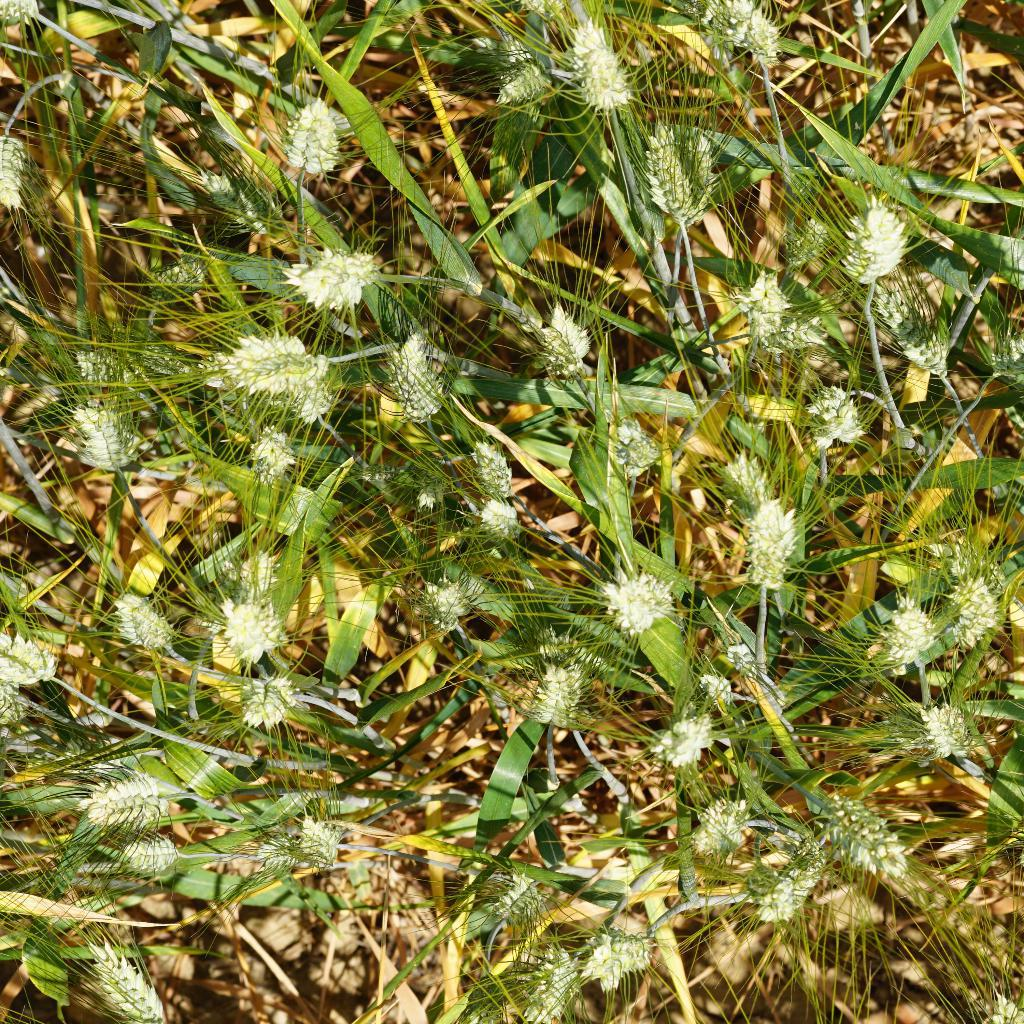0-0: (76, 926, 174, 1024), (806, 793, 912, 883), (867, 279, 953, 387), (200, 544, 289, 647), (187, 162, 291, 238), (570, 915, 664, 998), (209, 334, 348, 390), (913, 530, 1018, 602), (832, 196, 912, 288), (695, 0, 789, 78), (522, 620, 584, 738), (280, 243, 385, 308), (571, 11, 634, 118), (385, 323, 448, 425), (67, 768, 174, 828), (726, 263, 796, 354), (638, 116, 694, 229), (873, 590, 942, 680), (592, 565, 678, 637), (519, 937, 590, 1024), (64, 400, 138, 483), (796, 376, 870, 458), (528, 294, 592, 386), (515, 661, 590, 739), (680, 794, 762, 865), (742, 495, 802, 591), (713, 446, 776, 534), (640, 709, 718, 780), (279, 92, 344, 177), (670, 124, 719, 236), (214, 597, 285, 668), (481, 871, 562, 932), (113, 588, 181, 658), (405, 571, 477, 635), (124, 334, 210, 387), (915, 699, 982, 765), (467, 31, 556, 80), (145, 243, 214, 306), (0, 629, 71, 690), (777, 833, 829, 912), (276, 372, 340, 434), (747, 308, 835, 353), (243, 420, 299, 490), (606, 411, 661, 481), (944, 577, 996, 650), (494, 53, 557, 112), (235, 673, 298, 732), (52, 352, 159, 386), (0, 115, 36, 216), (745, 858, 797, 925), (780, 211, 833, 275), (288, 816, 348, 872), (116, 832, 188, 878), (467, 435, 514, 499), (983, 315, 1024, 385), (405, 446, 448, 512), (251, 828, 310, 871), (473, 498, 524, 544), (717, 637, 765, 683), (696, 670, 739, 708), (354, 462, 399, 485)
